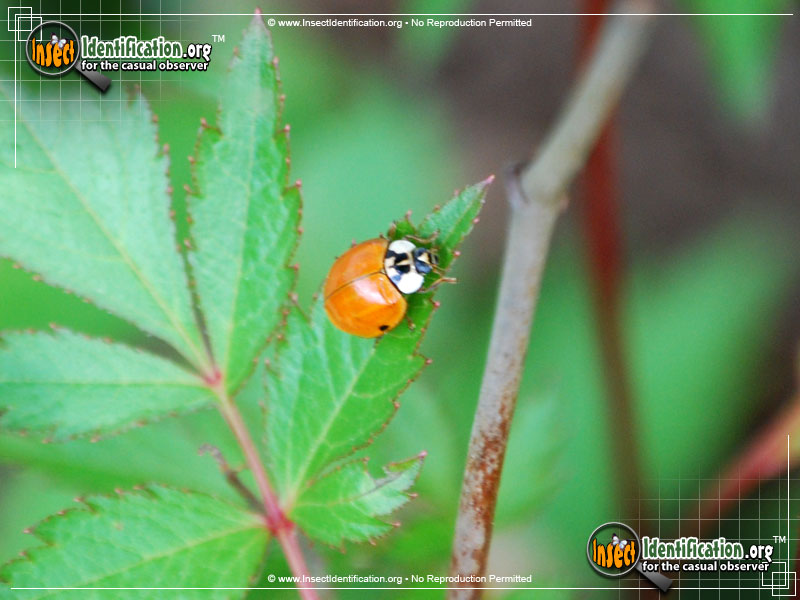Asian Multicolored Lady Beetle: (309, 229, 435, 351)
